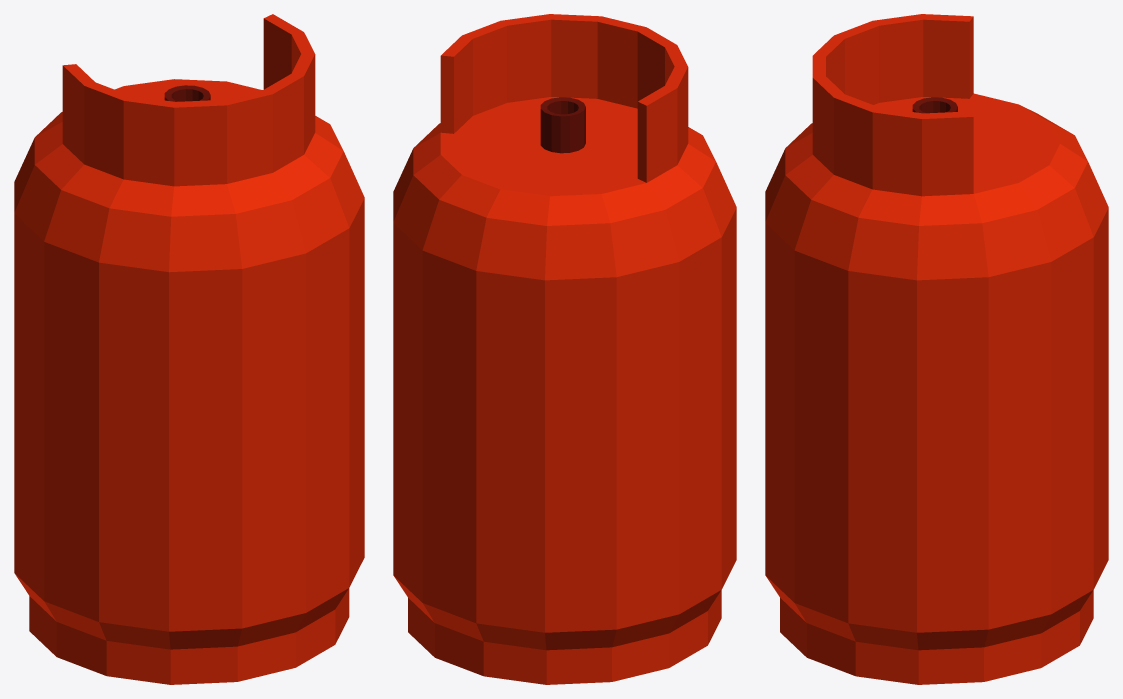
3 renders of one model, left to right at view 1: azimuth 30°, elevation 25°; view 2: azimuth 150°, elevation 25°; view 3: azimuth 270°, elevation 25°, orthographic. The views are drawn at different scales.
Visible parts, largest first — view 1: Цилиндр.001; view 2: Цилиндр.001; view 3: Цилиндр.001.
Part boxes in pixels (left/top/right/bottom): Цилиндр.001: left=14, top=14, right=364, bottom=684; Цилиндр.001: left=393, top=14, right=736, bottom=684; Цилиндр.001: left=765, top=14, right=1108, bottom=684.
Size of the model in its own units: 85.57 by 151 by 85.1.
